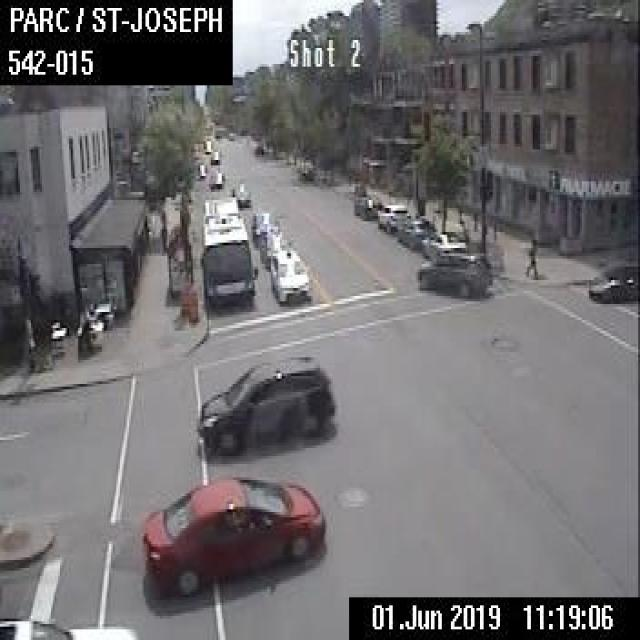bus: (198, 196, 257, 307)
construction: (178, 280, 189, 316), (187, 289, 198, 320)
pedestrian: (522, 232, 538, 277)
vehicle: (142, 472, 327, 600), (196, 349, 334, 456), (417, 248, 491, 294), (0, 614, 138, 638), (266, 247, 310, 304), (589, 270, 638, 302), (419, 230, 464, 260), (396, 215, 433, 249), (260, 224, 287, 266), (250, 206, 276, 249), (377, 201, 409, 233), (351, 184, 380, 218), (230, 182, 249, 207), (206, 169, 224, 187), (209, 148, 219, 163), (203, 138, 212, 153)
